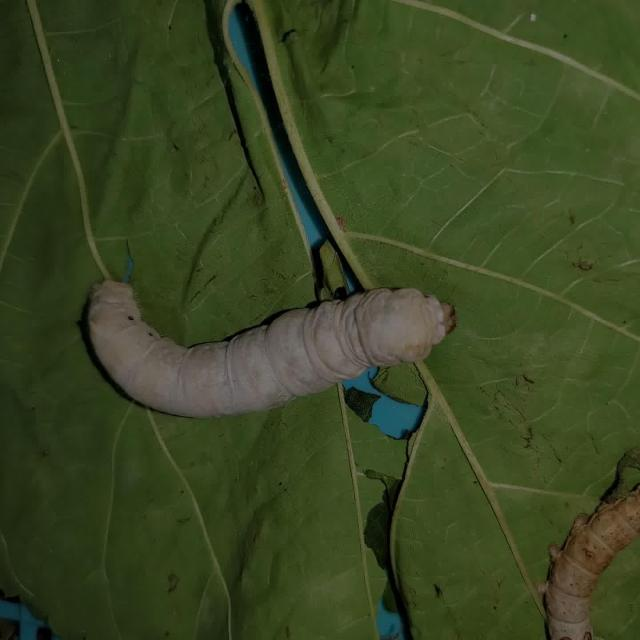Grasserie: (62, 244, 471, 440)
